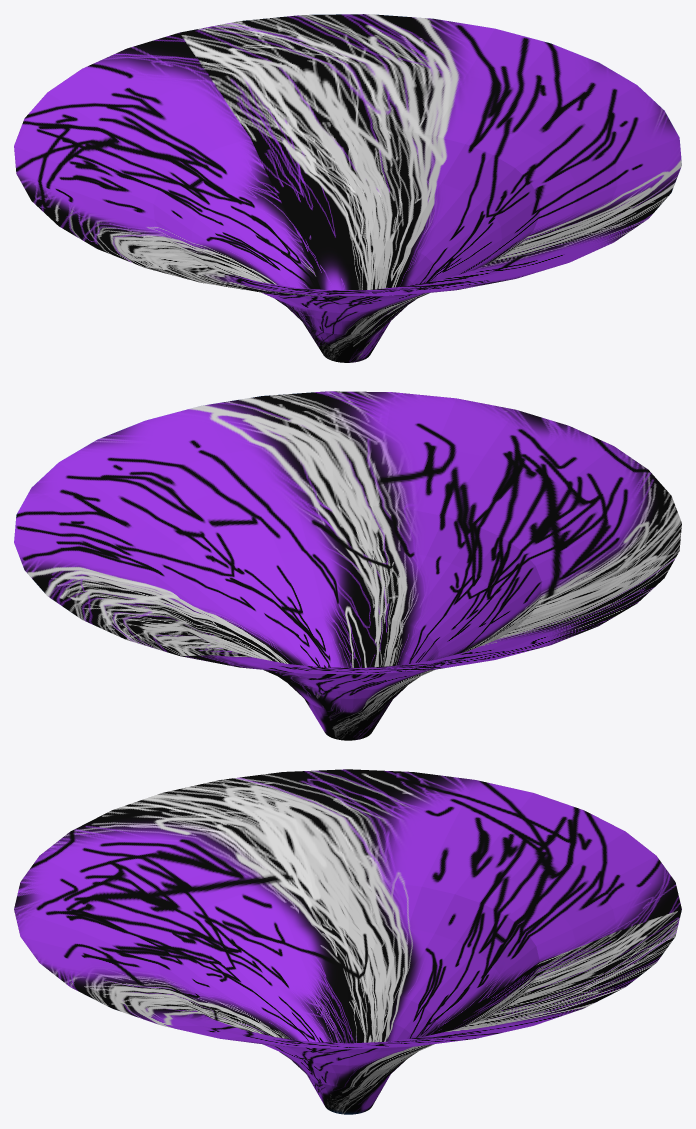
File: WarpHole_ver4.fbx
3 views of the same model, one above another, from view 1: azimuth 30°, elevation 25°; view 2: azimuth 150°, elevation 25°; view 3: azimuth 270°, elevation 25° (orthographic).
Parts seen in each view (by area): view 1: 円柱; view 2: 円柱; view 3: 円柱.
Part boxes in pixels (<box>): 円柱: <box>14,14,681,362</box>; 円柱: <box>14,391,681,740</box>; 円柱: <box>14,769,681,1114</box>.
Bounding box in the file's own units: 224 × 72.96 × 226.
